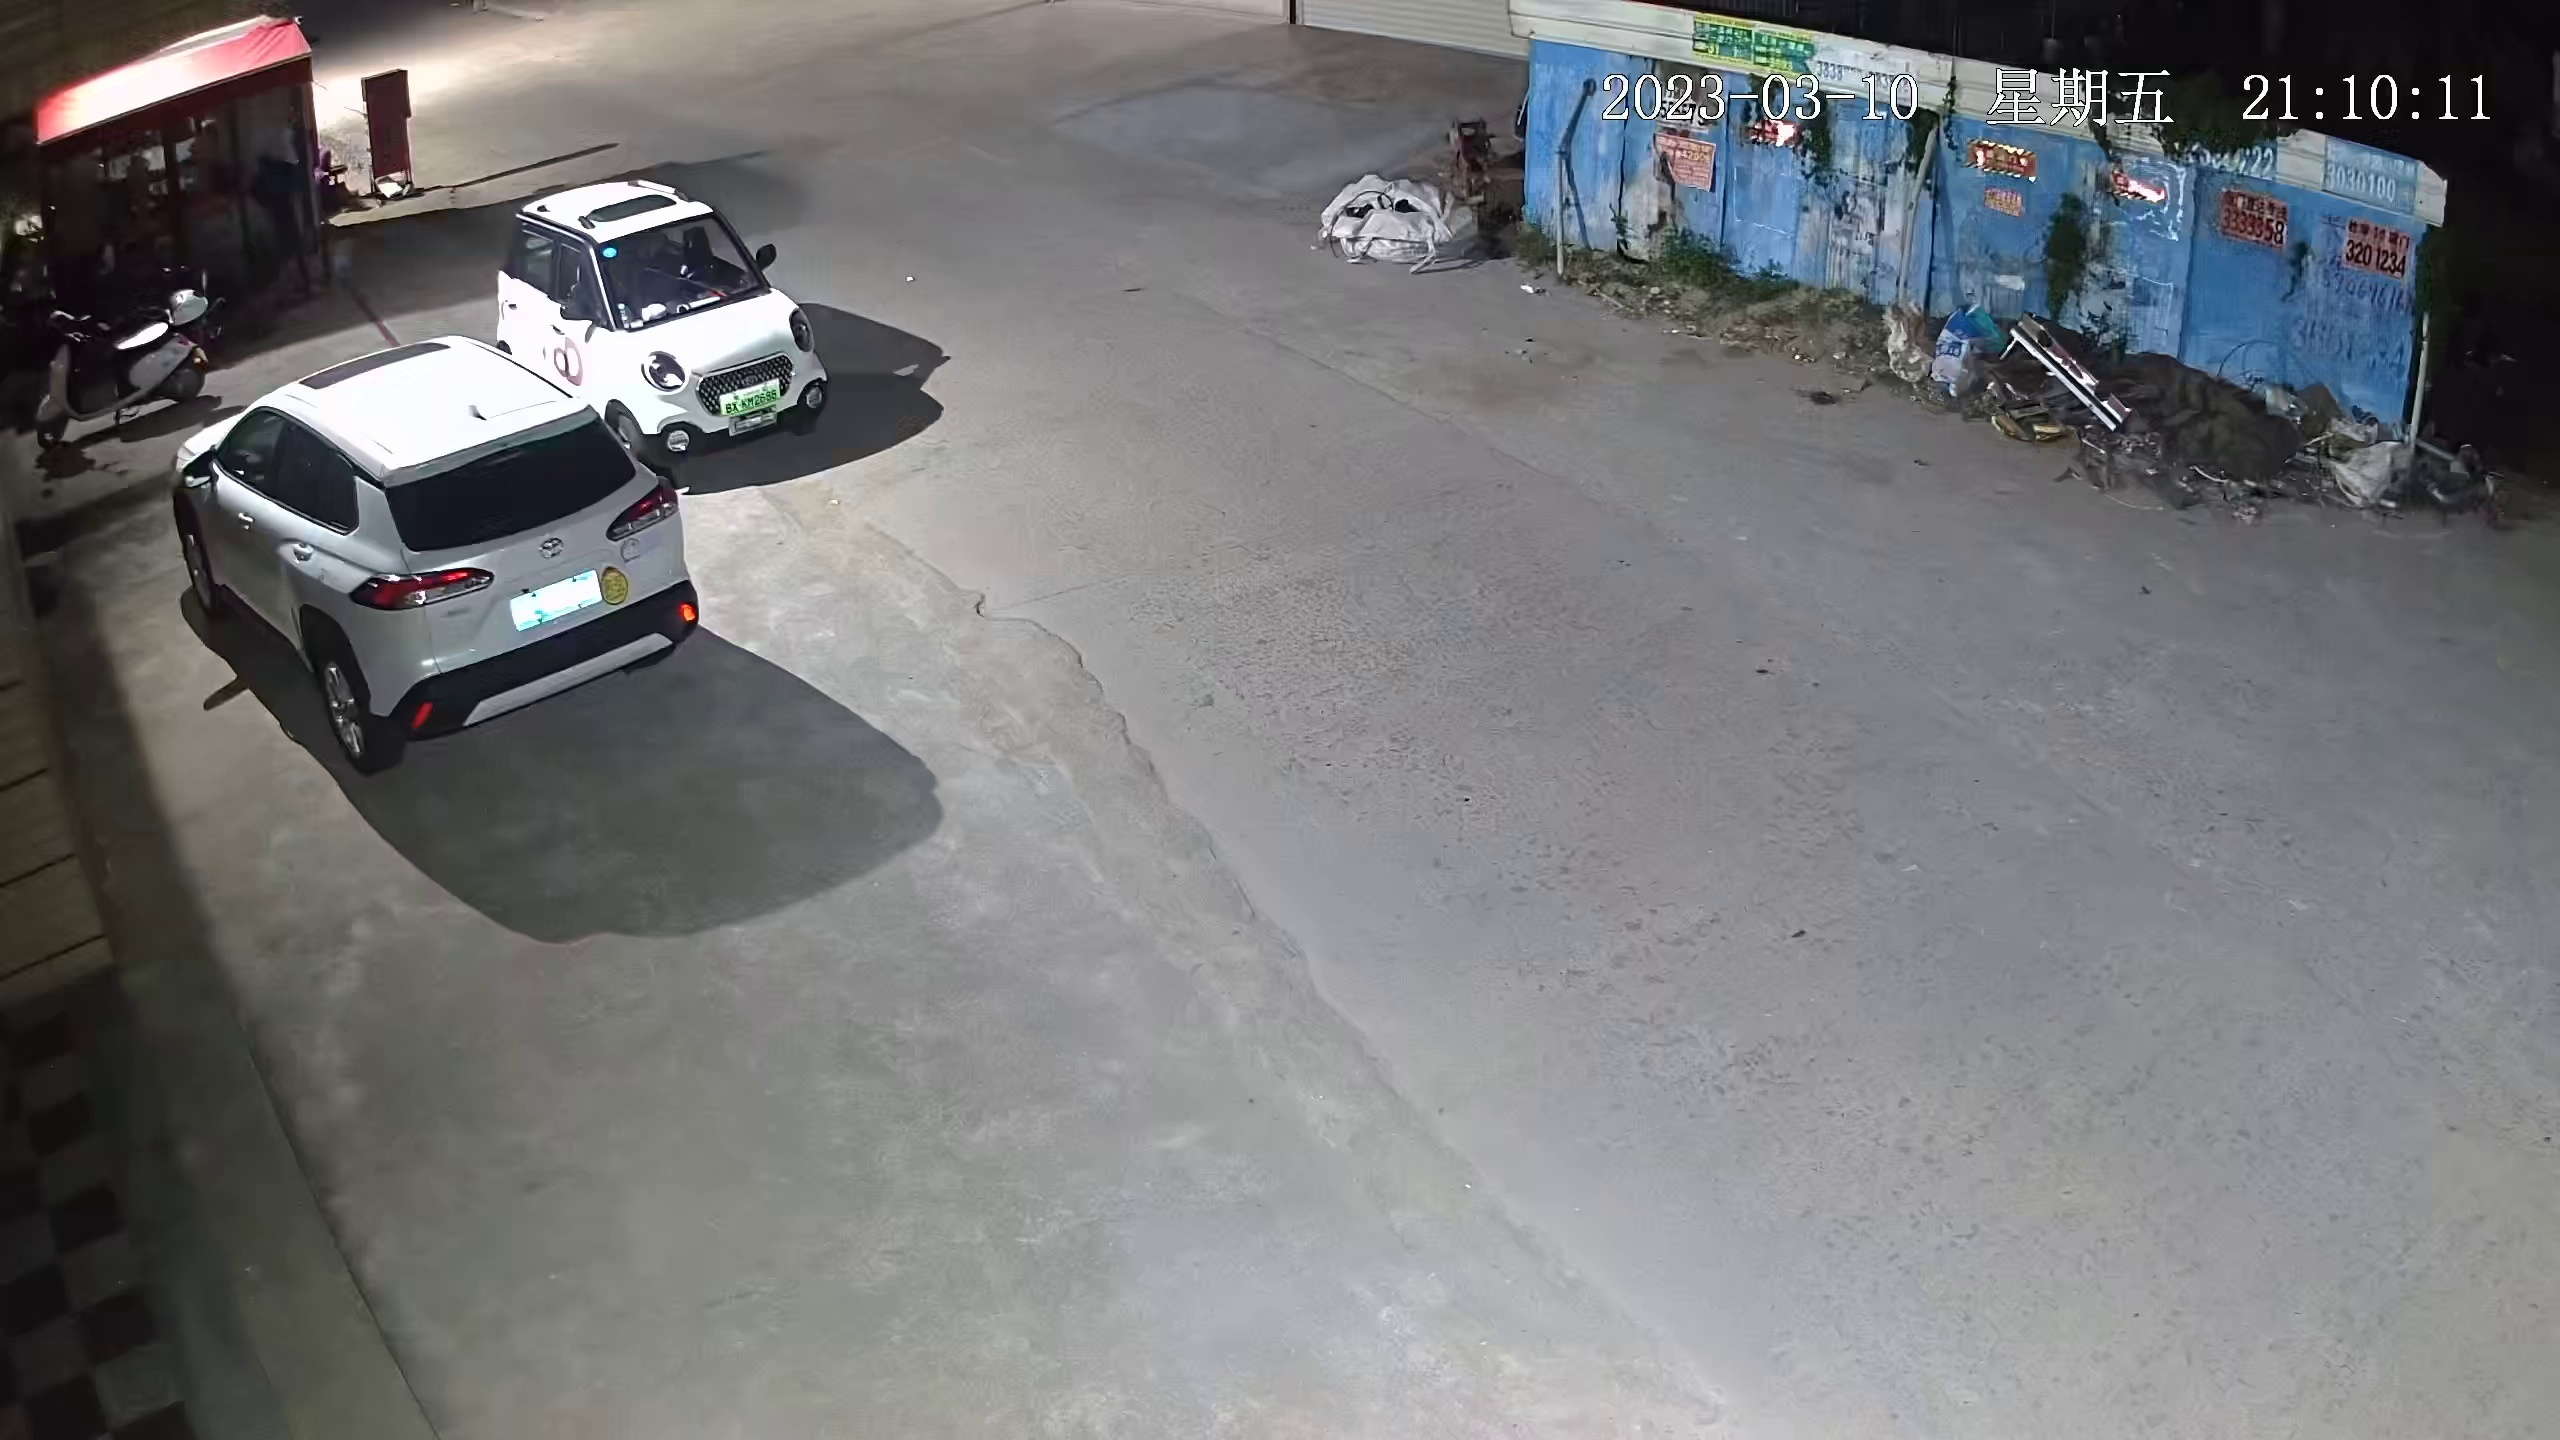motorcycle: (23, 281, 218, 438)
sedan: (480, 179, 826, 448)
suv: (164, 334, 703, 749)
